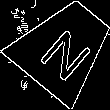N_NE: (32, 15, 97, 79)
